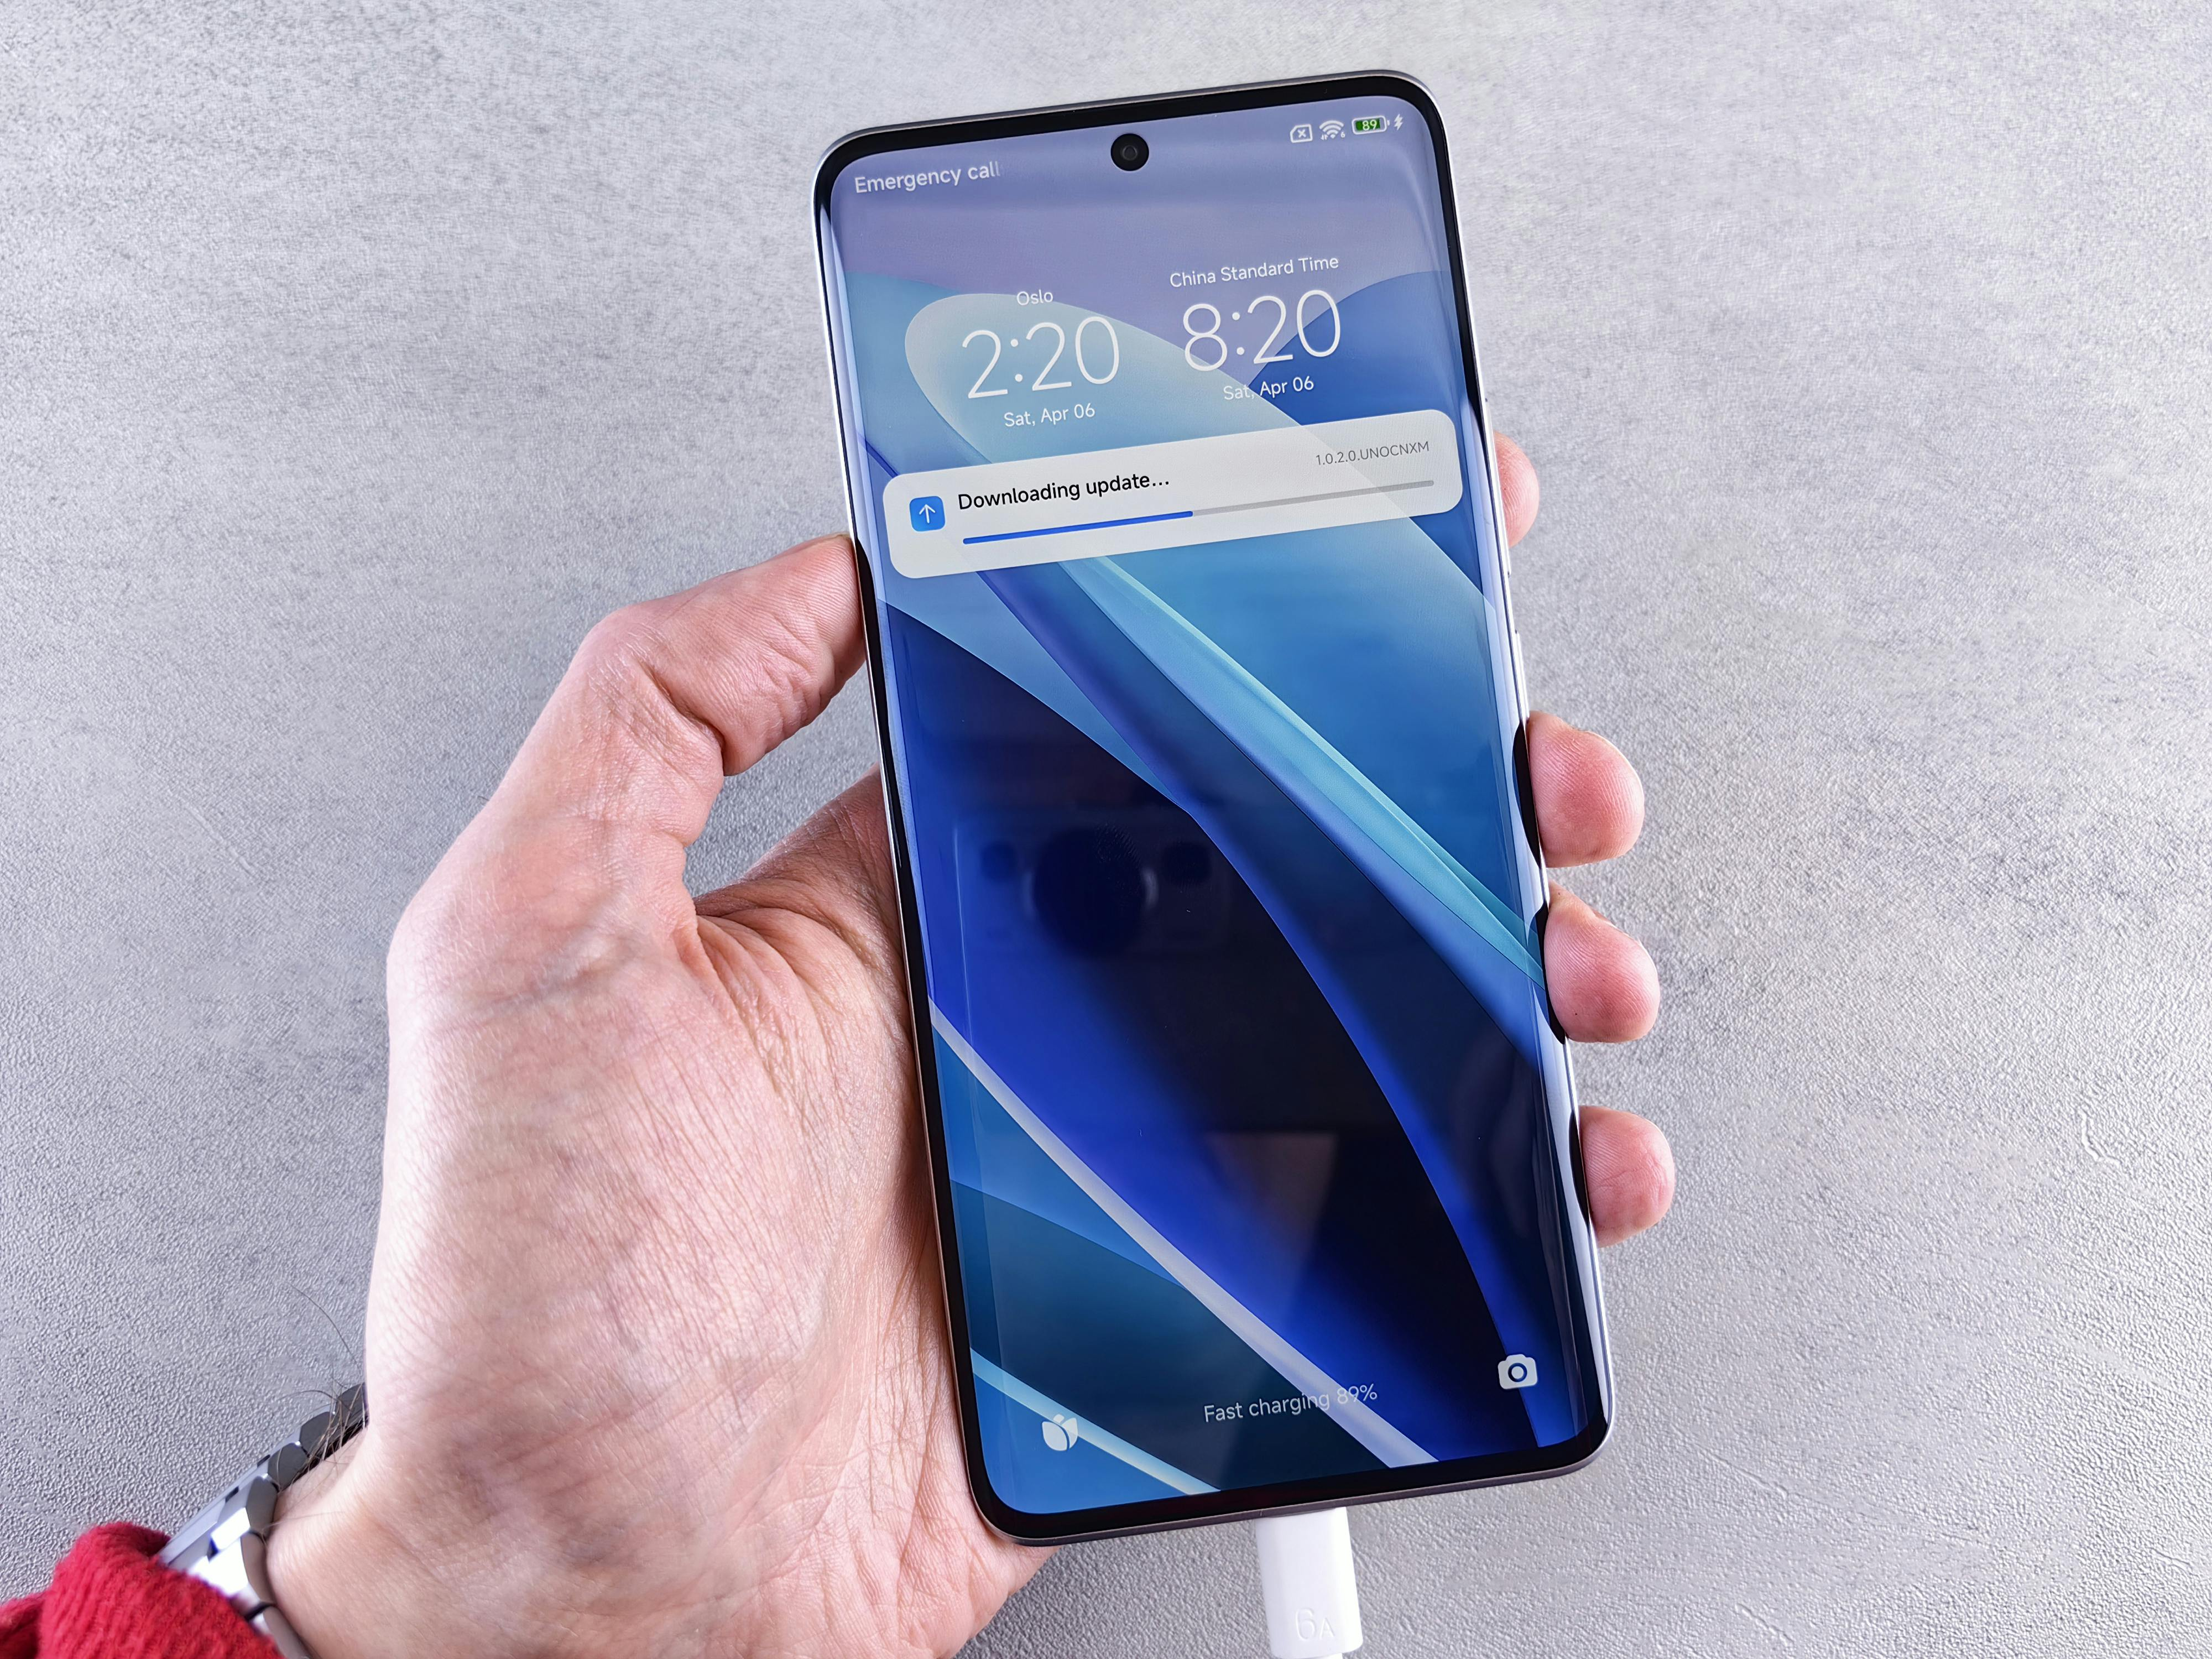p6: (794, 59, 1660, 1554)
